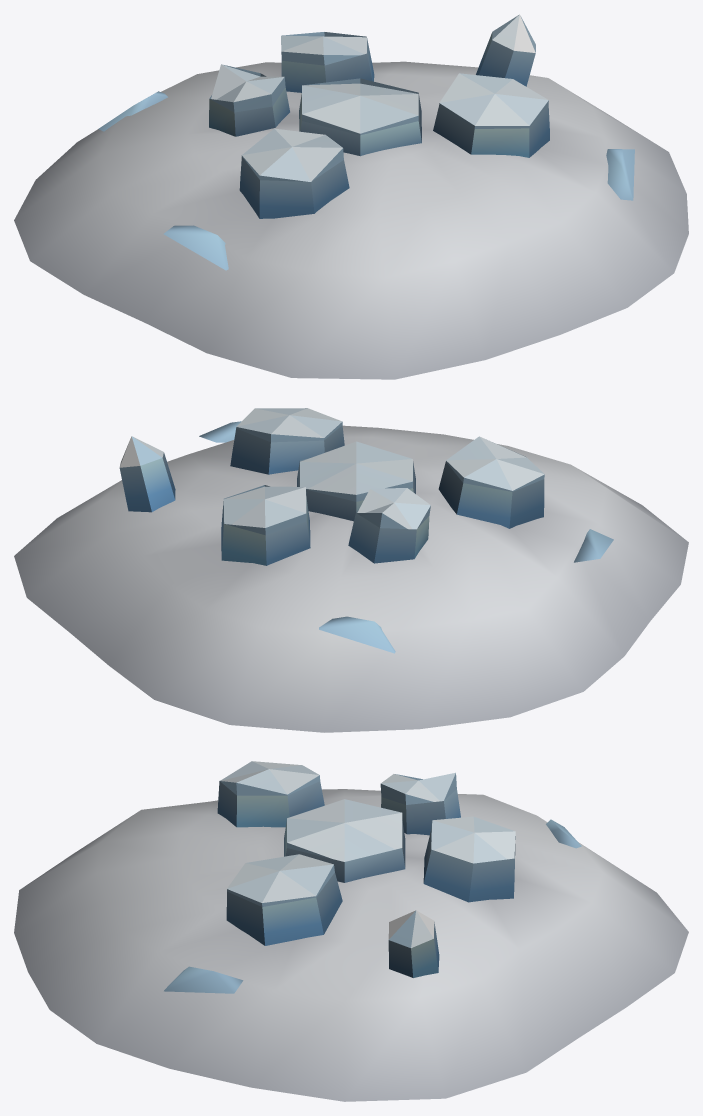
File: prop-scav-iceCrystal-taken.glb
The picture shows the model from 3 angles, top to bottom: view 1: azimuth 30°, elevation 25°; view 2: azimuth 150°, elevation 25°; view 3: azimuth 270°, elevation 25°; orthographic projection. The views are drawn at different scales.
Visible parts, largest first — view 1: body; view 2: body; view 3: body.
Part boxes in pixels (<box>): body: <box>14,14,688,379</box>; body: <box>14,408,688,732</box>; body: <box>14,761,688,1101</box>.
Size of the model in its own units: 0.9494 by 0.218 by 0.9502.
